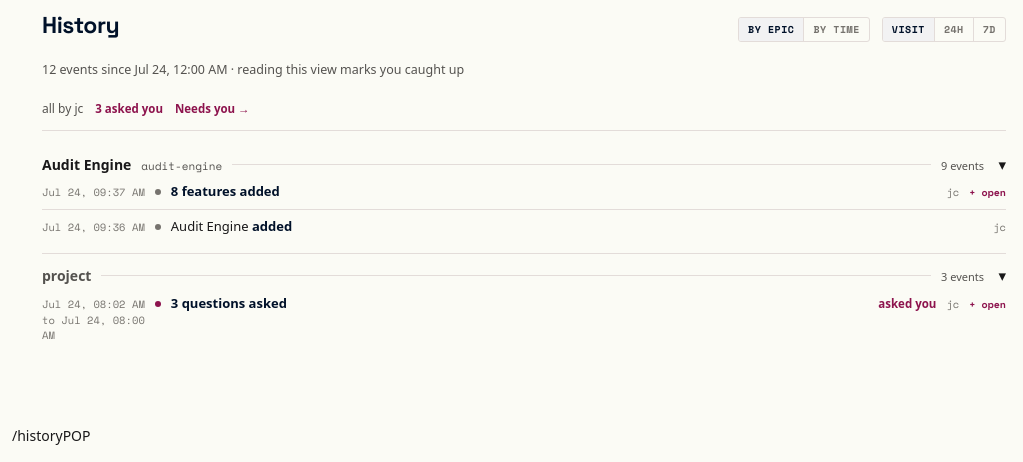
Test case: History view: the route and the window › switches windows by navigating, so the state is linkable and visit stays canonical
Expected: the text "12 events" is shown, x1=42 y1=60 x2=464 y2=78
Click the link "7d".
click(989, 30)  # box x1=973 y1=18 x2=1005 y2=41
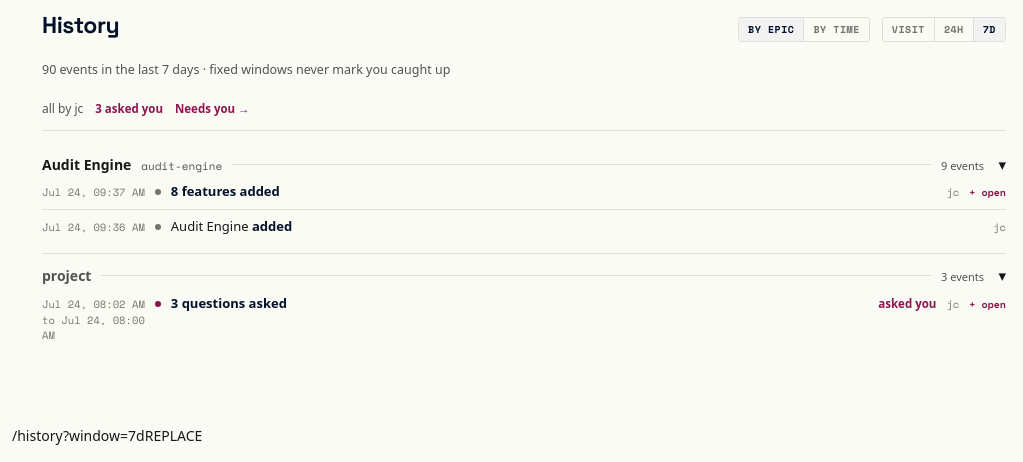
Now the text "90 events" is shown, box x1=42 y1=60 x2=450 y2=78
Now the text with test id "loc" reads "/history?window=7d", box x1=12 y1=426 x2=145 y2=445
Click the link "visit".
click(908, 30)  # box x1=892 y1=22 x2=925 y2=37
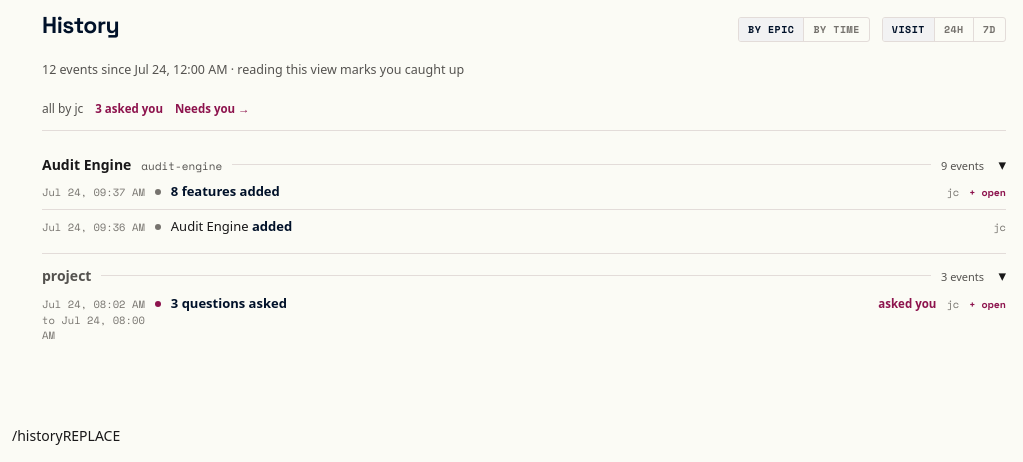
Expected: the text with test id "loc" reads "/history", x1=12 y1=426 x2=63 y2=445
Now the text "12 events" is shown, box x1=42 y1=60 x2=464 y2=78
